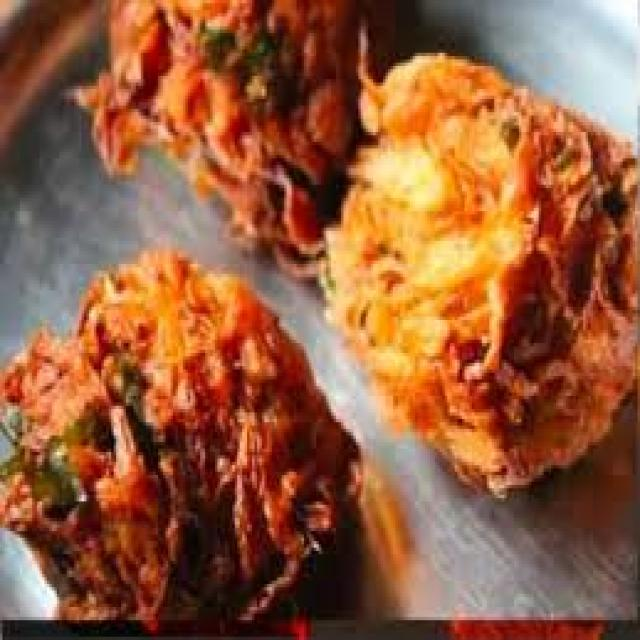BAJI: (309, 60, 636, 482), (0, 255, 359, 620), (65, 0, 368, 246)
